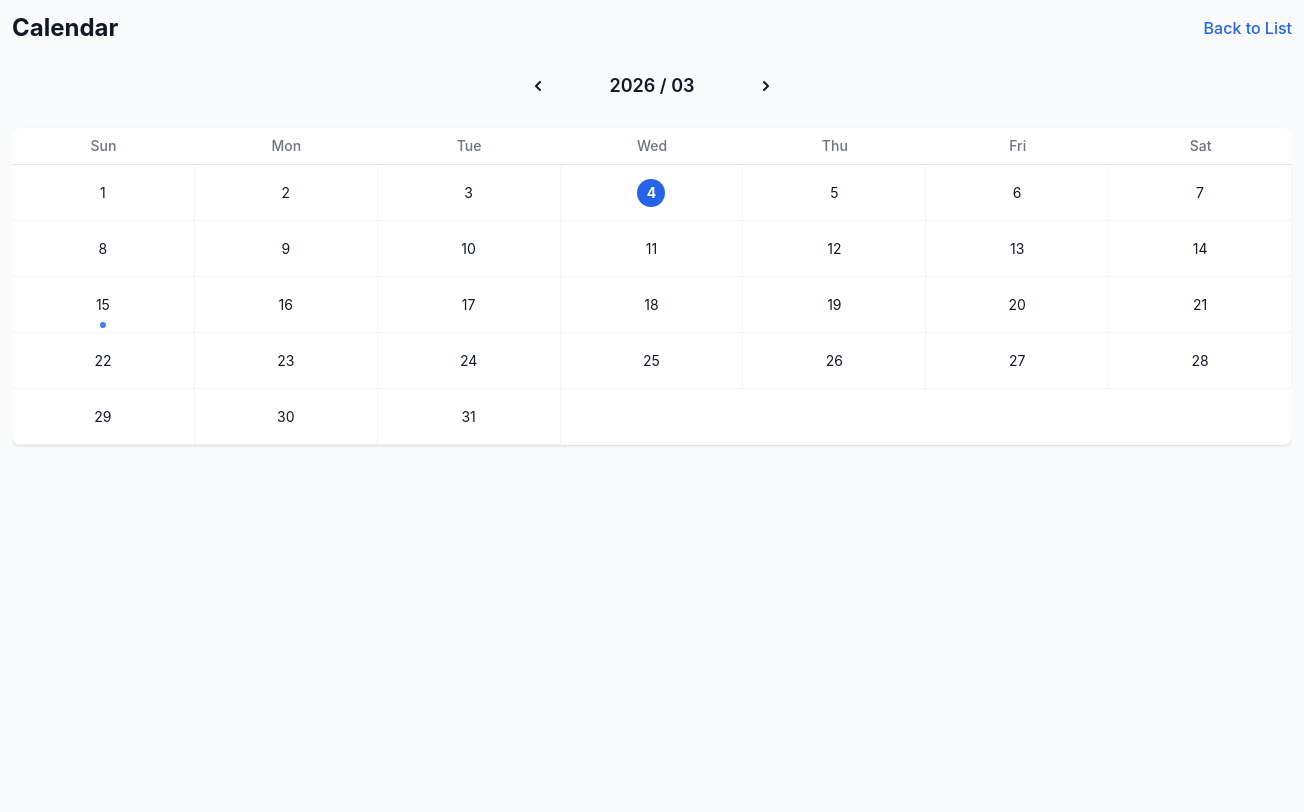
Test: CalendarPage › shows entries when a date with entries is clicked
Click the button "15": point(103, 305) x1=12 y1=277 x2=195 y2=333
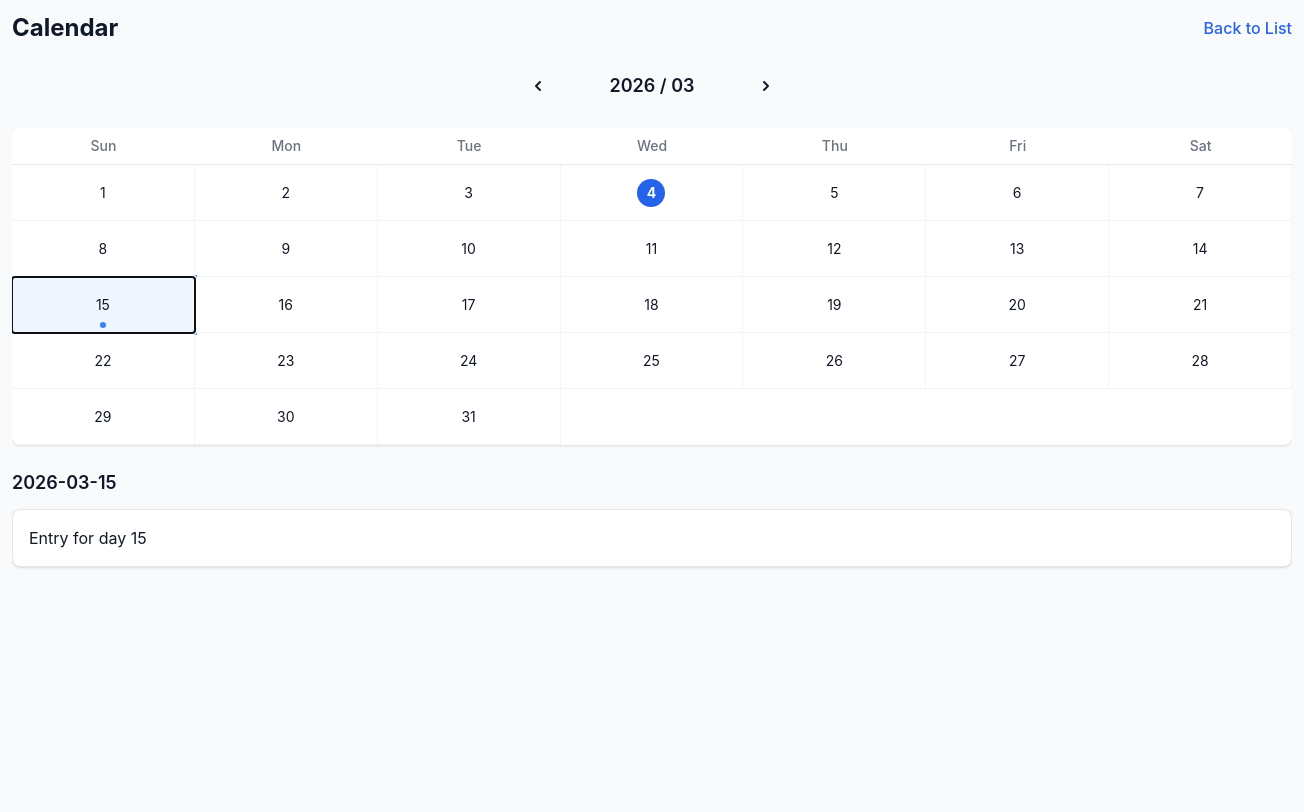
Result: the text "Entry for day 15" is shown at x1=29 y1=528 x2=147 y2=548
